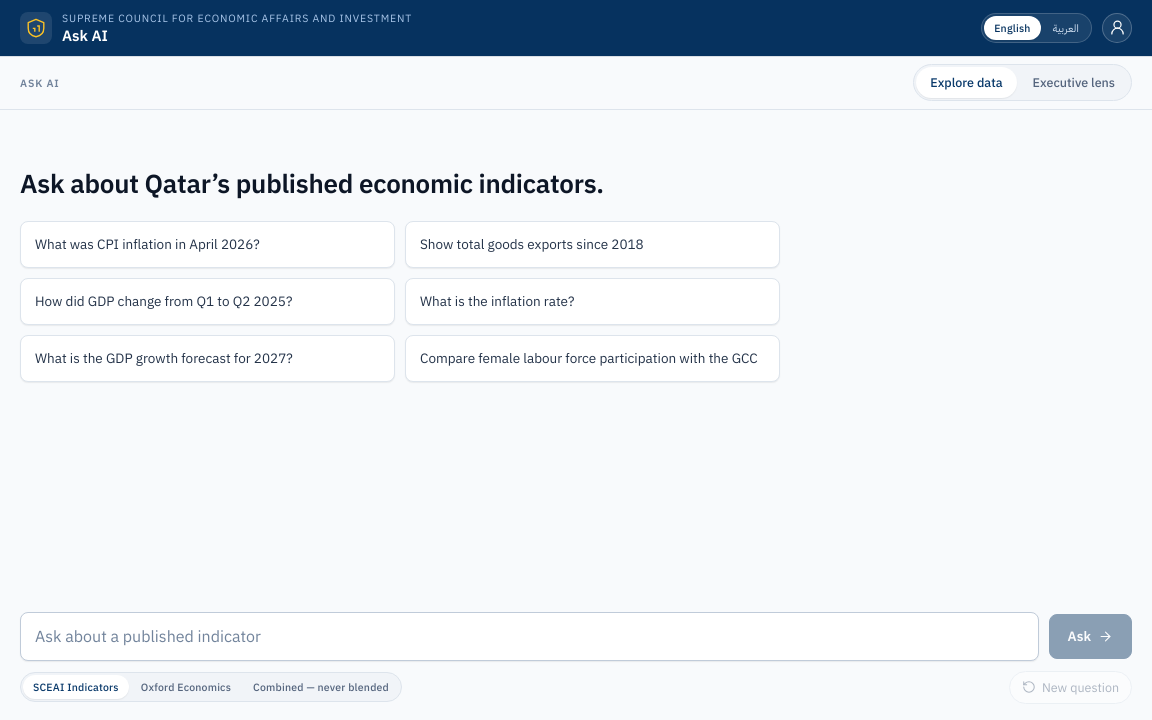
Test: every state is reachable by typing › What was CPI inflation in April 2026?
Type "What was CPI inflation in April 2026?" into the field named "Your question" at coordinates (529, 636), box [20, 612, 1039, 661]
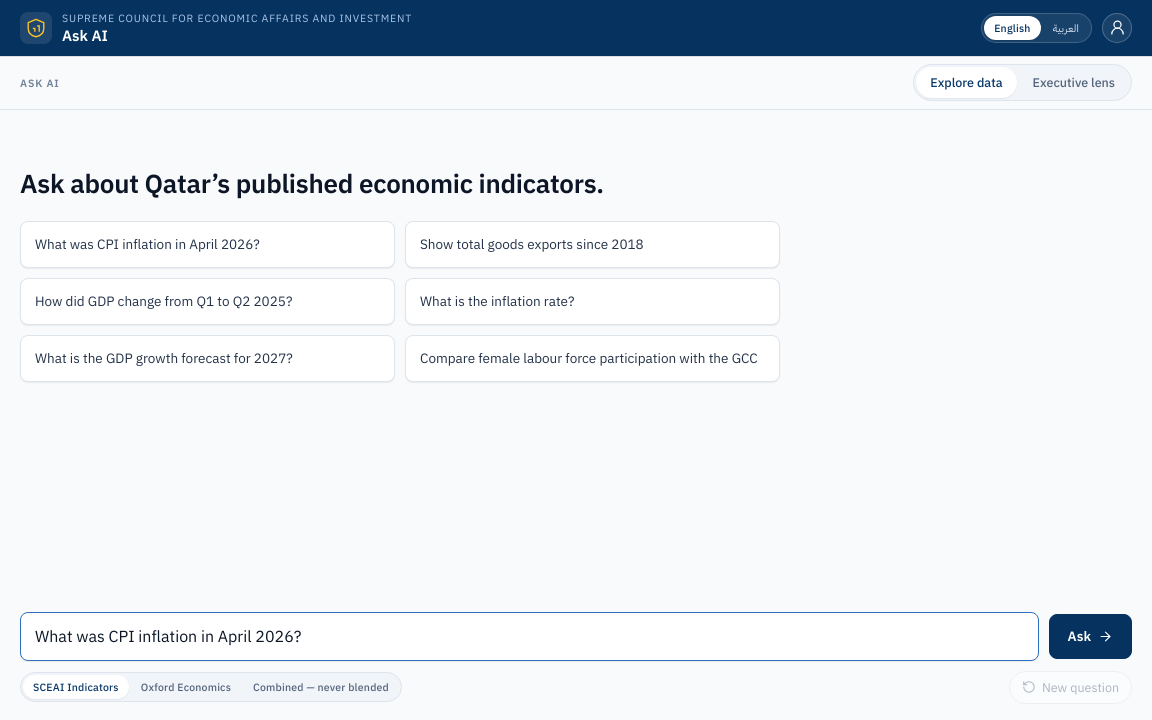
Click the button "Ask" at coordinates (1090, 636), box [1049, 614, 1132, 659]
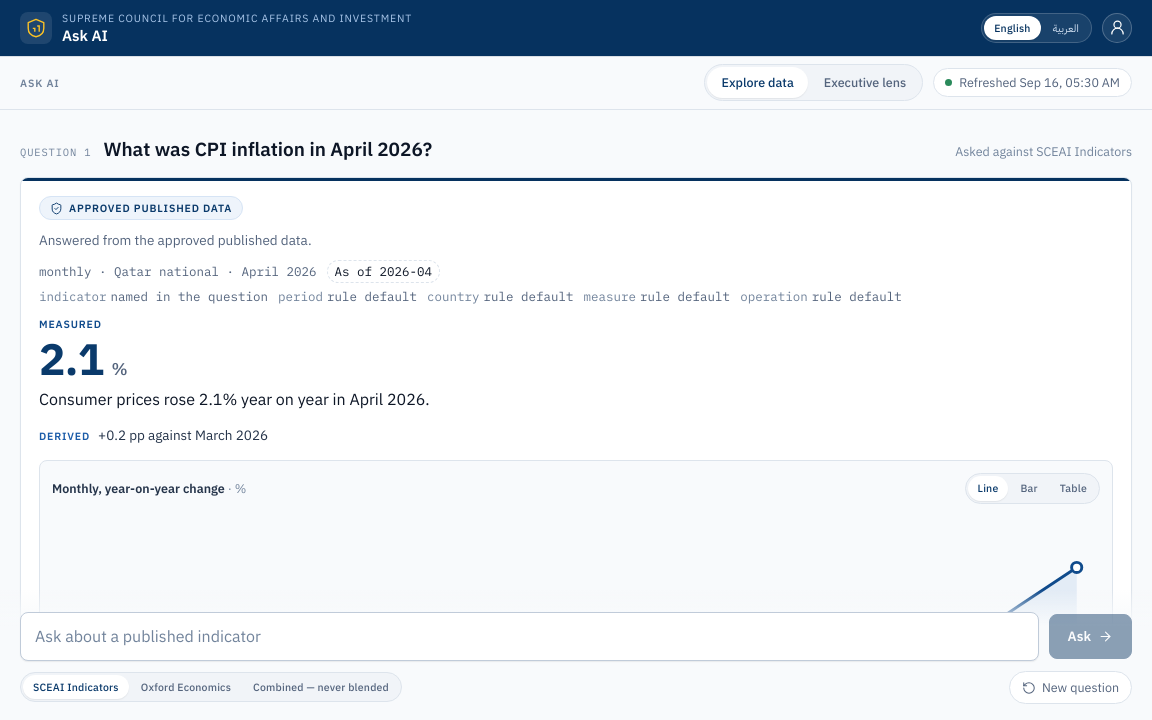
expect the text "Consumer prices rose 2.1% year on year in April 2026." is shown: met, box [39, 389, 430, 409]
